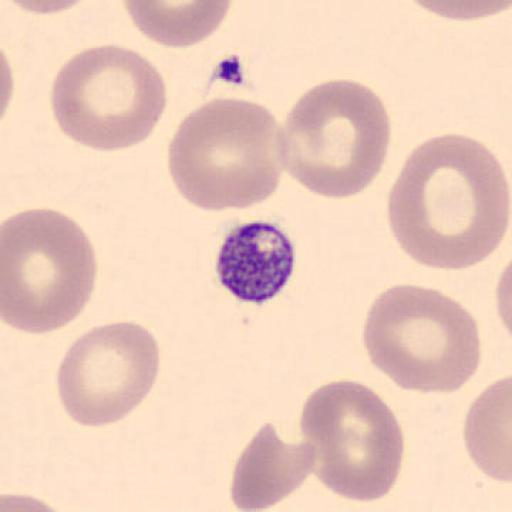Platelet: (210, 217, 298, 306)
RBC: (387, 132, 509, 270), (166, 96, 289, 214), (278, 77, 392, 201), (360, 283, 483, 397), (296, 378, 404, 505), (49, 43, 169, 153), (2, 204, 98, 336), (55, 319, 161, 429), (230, 420, 318, 511), (462, 373, 512, 486), (121, 0, 234, 49), (401, 0, 512, 23), (492, 252, 512, 352), (0, 39, 17, 139), (0, 491, 74, 512), (6, 0, 92, 17), (0, 42, 16, 126), (495, 260, 512, 338)
